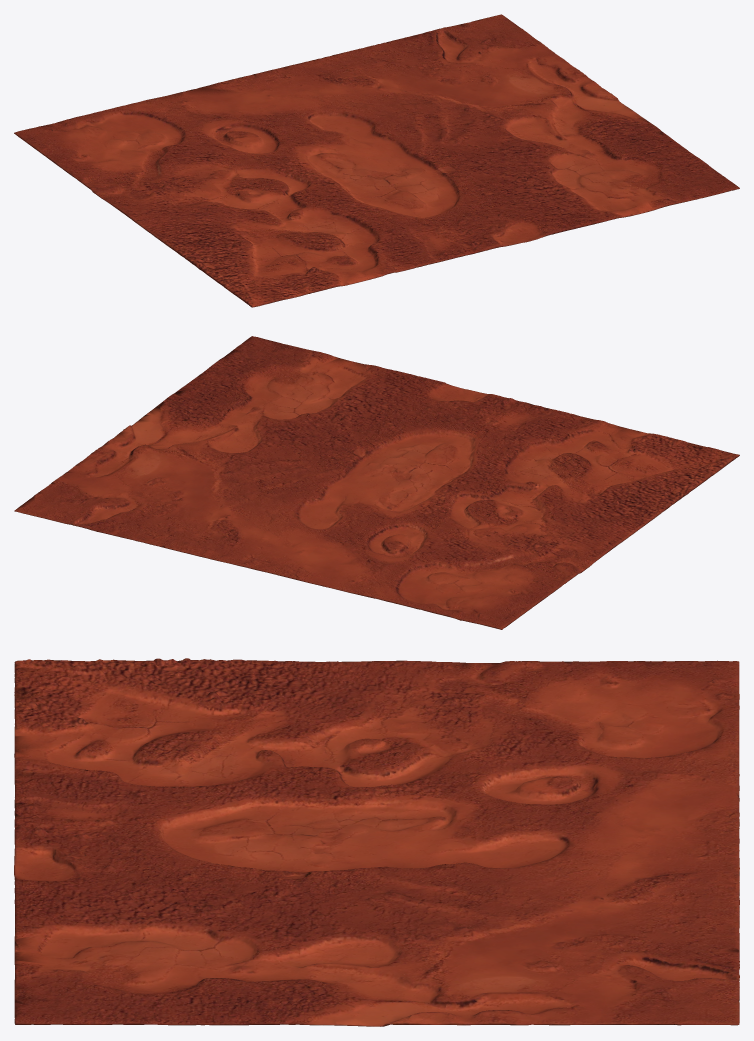
Rendered from cloud_ground.glb.
3 views of the same model, one above another, from view 1: azimuth 30°, elevation 25°; view 2: azimuth 150°, elevation 25°; view 3: azimuth 270°, elevation 25° (orthographic). The views are drawn at different scales.
Visible parts, largest first — view 1: Mesh_0; view 2: Mesh_0; view 3: Mesh_0.
Boxes of the visible parts, bbox=[...] form: Mesh_0: bbox=[14, 14, 739, 307]; Mesh_0: bbox=[14, 336, 739, 629]; Mesh_0: bbox=[14, 658, 739, 1026].
Size of the model in its own units: 1.9 by 0.0253 by 1.61.
1 material, 1 textured.
